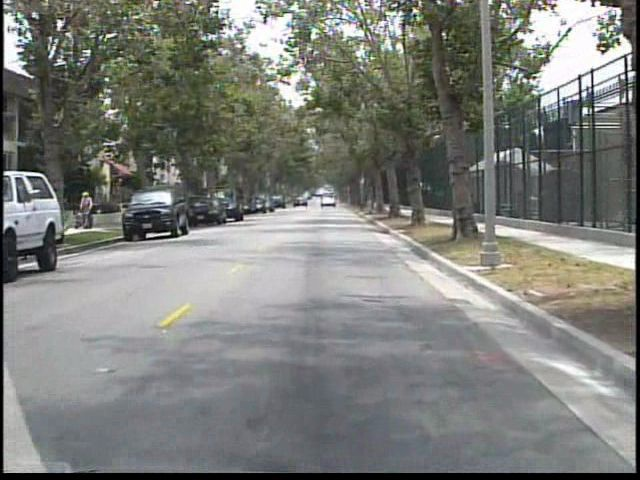person: (82, 193, 102, 233)
